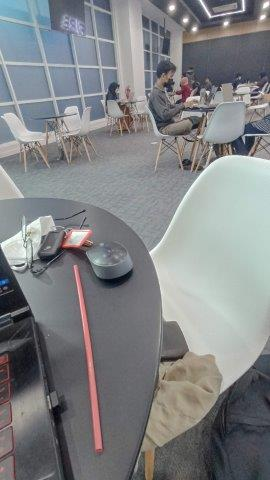sedotan: (74, 265, 102, 452)
